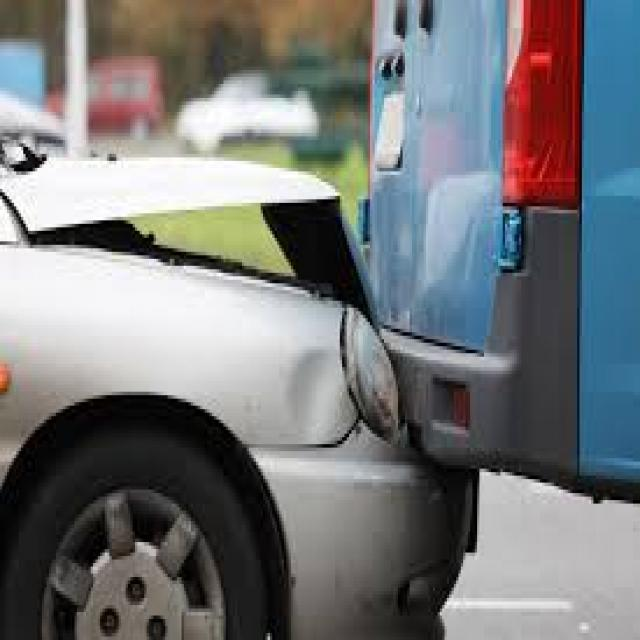accident: (131, 91, 574, 594)
